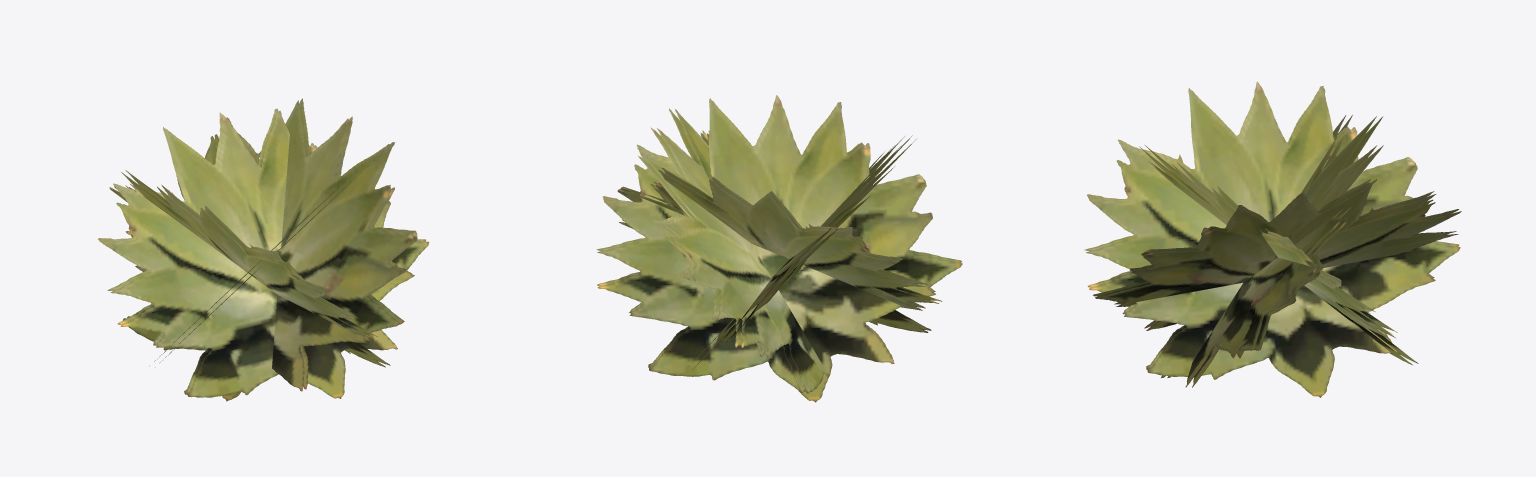
File: plant_desert_01.dae
3 views of the same model, side by side, from view 1: azimuth 30°, elevation 25°; view 2: azimuth 150°, elevation 25°; view 3: azimuth 270°, elevation 25° (orthographic). The views are drawn at different scales.
Visible parts, largest first — view 1: Plane08; view 2: Plane08; view 3: Plane08.
Boxes of the visible parts, x1,y1,x2,y2 form: Plane08: [98, 98, 429, 401]; Plane08: [596, 95, 962, 402]; Plane08: [1084, 81, 1461, 397].
Bounding box in the file's own units: 6.17 × 6.2 × 3.86.
